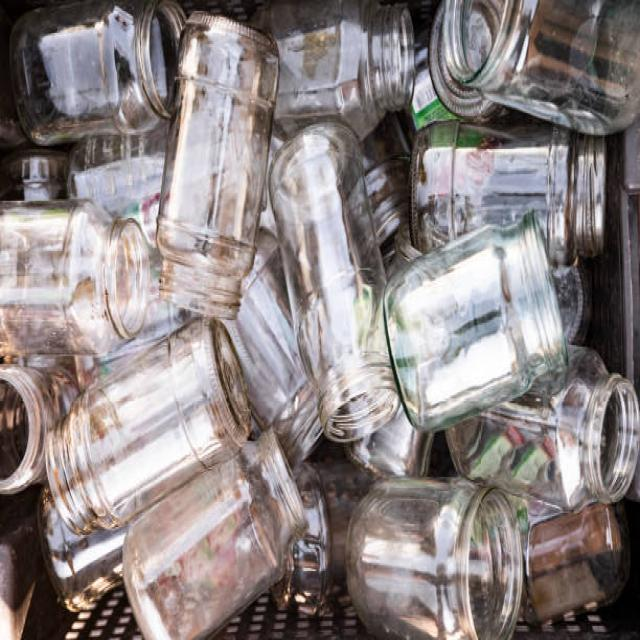glass: (19, 44, 573, 557)
